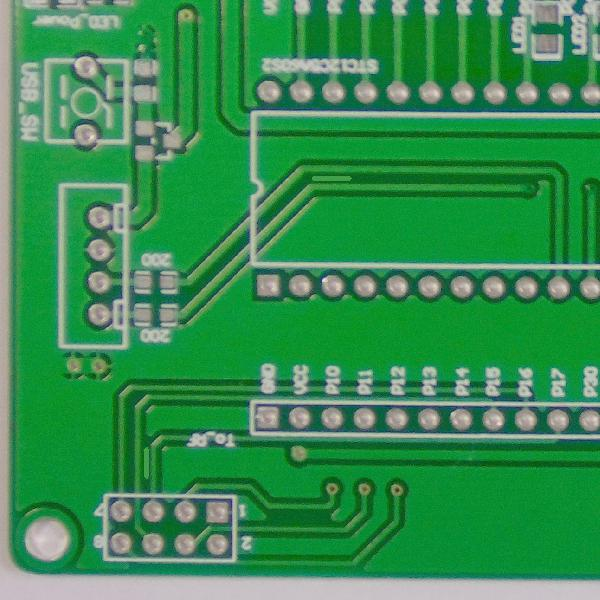spurious_copper: (309, 170, 353, 189), (137, 443, 157, 482)
